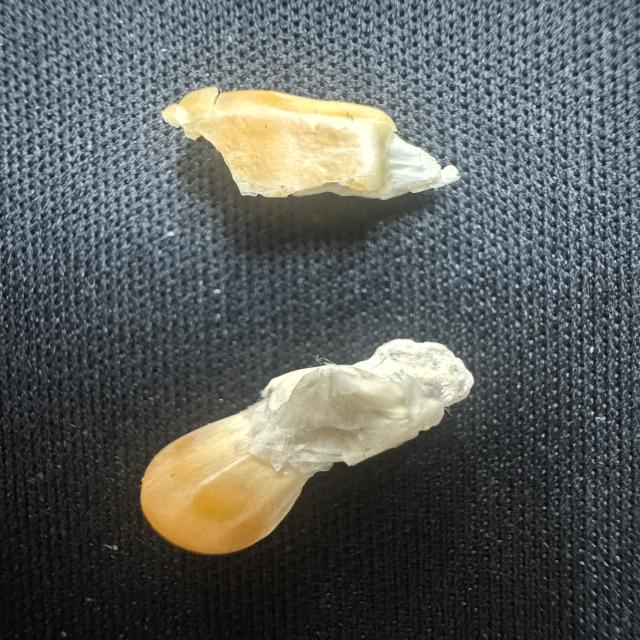Bad-Seed: (130, 332, 482, 559), (157, 80, 466, 206)
